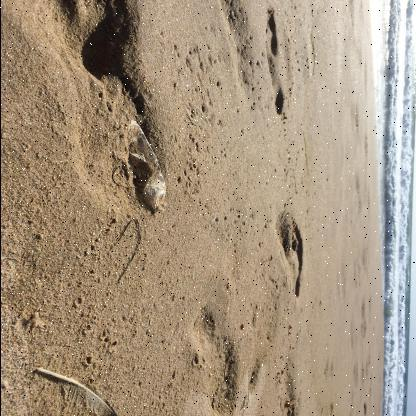other: (129, 120, 165, 211)
